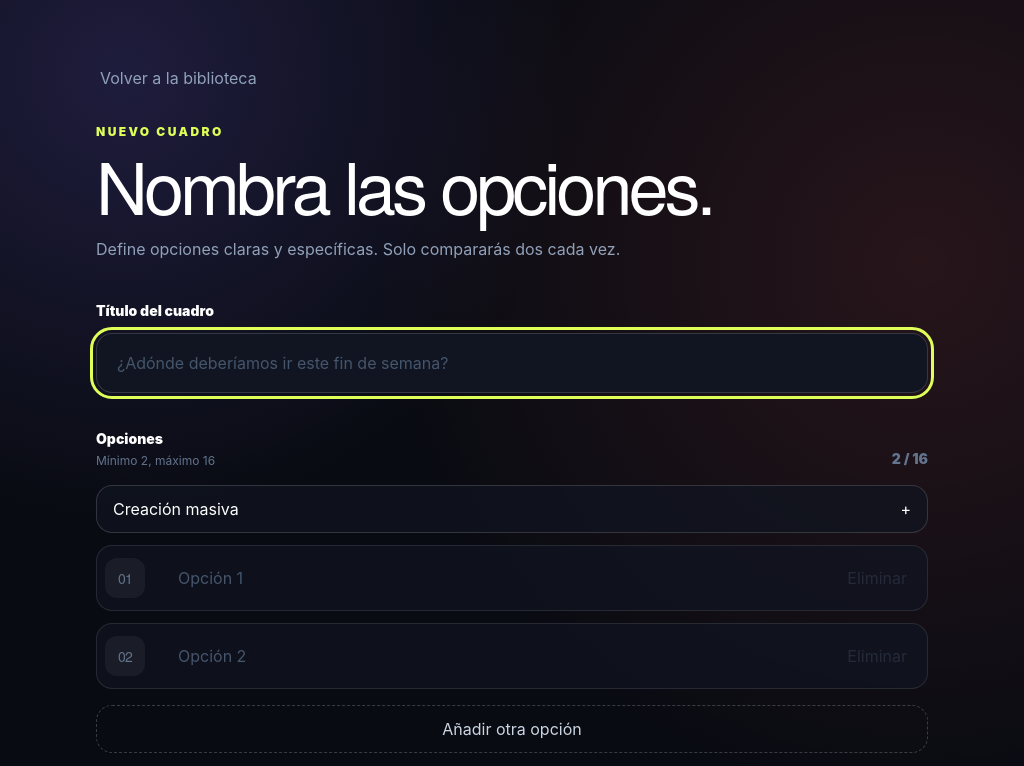
Test: BracketEditor bulk creation disclosure › collapses after creating valid options
Click the button "Creación masiva +" at point(176, 509), box [96,485,928,533]
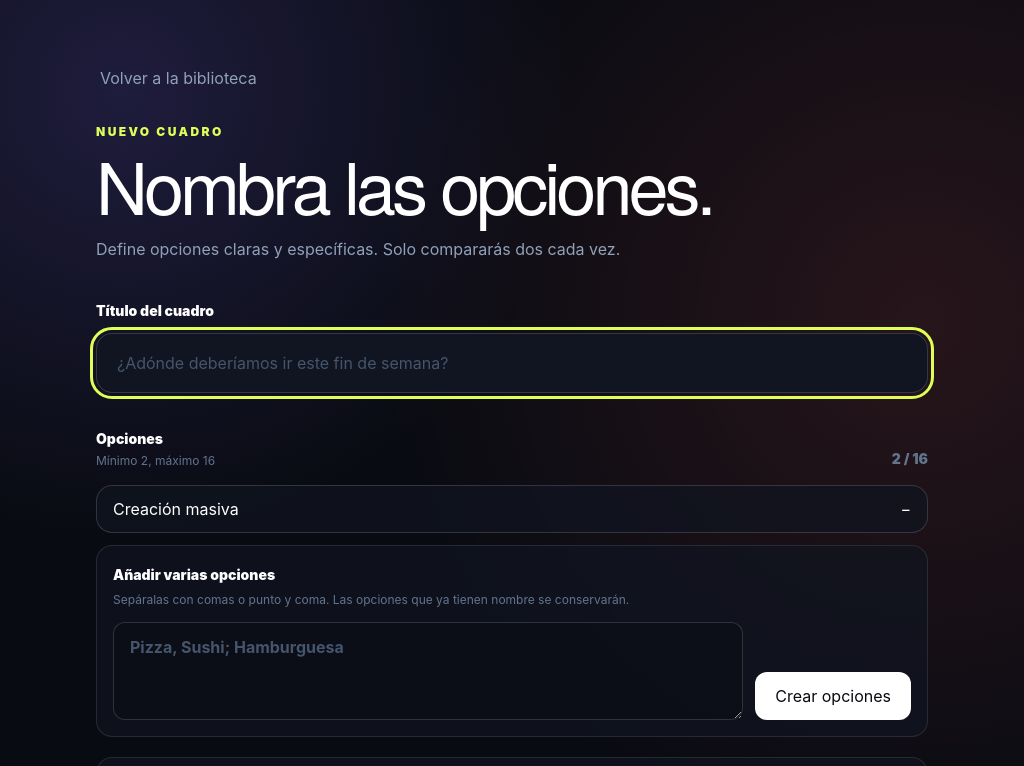
Type "Pizza, Sushi" into the text box labelled "Añadir varias opciones" at point(428, 671), box [113,622,743,720]
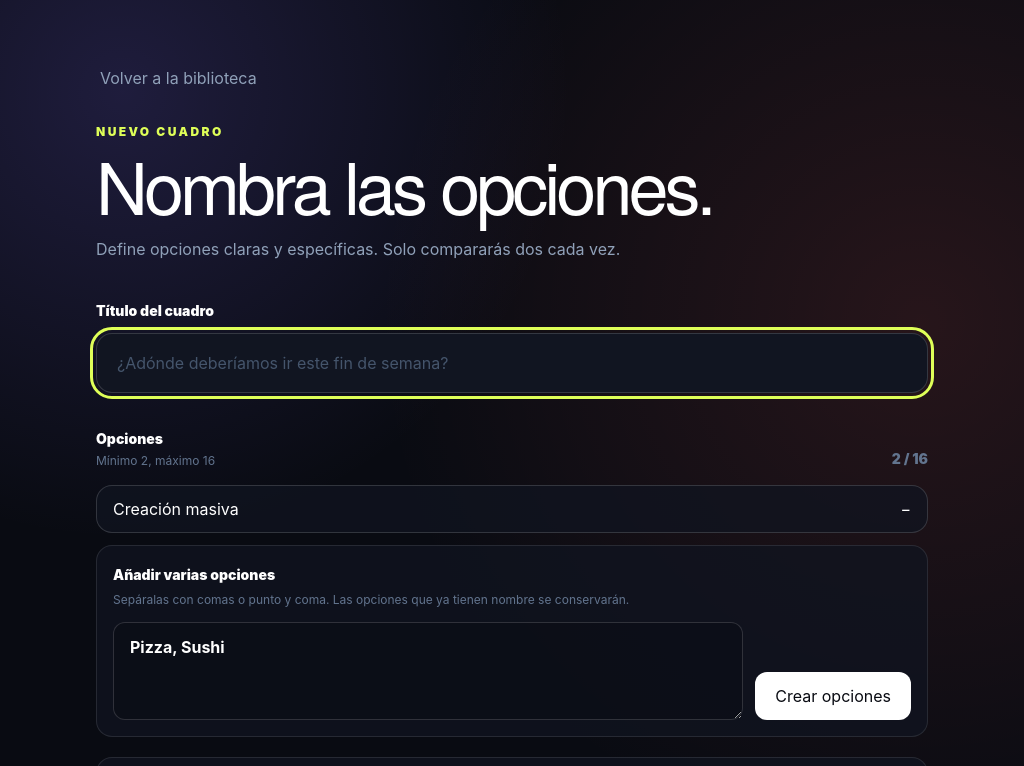
Click the button "Crear opciones" at point(833, 696), box [755,672,911,720]
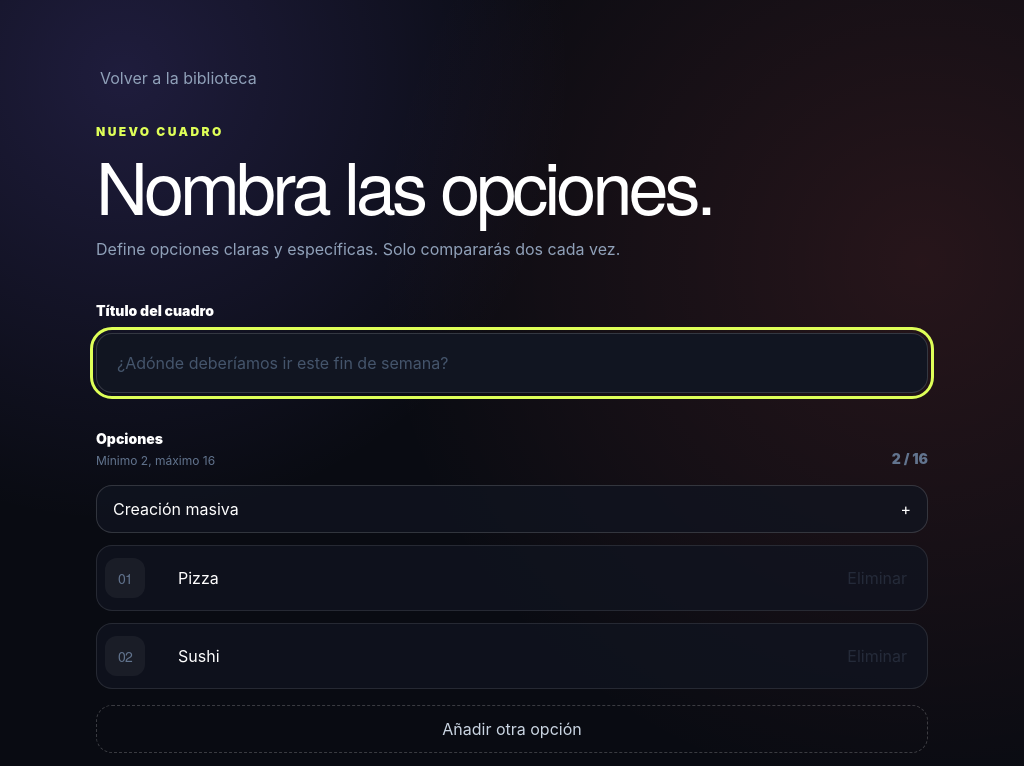
Result: the label "Añadir varias opciones" is gone
Result: the field named "Opción 1" next to "01" holds "Pizza" at [165,554,823,602]
Result: the field named "Opción 2" next to "02" holds "Sushi" at [165,632,823,680]
